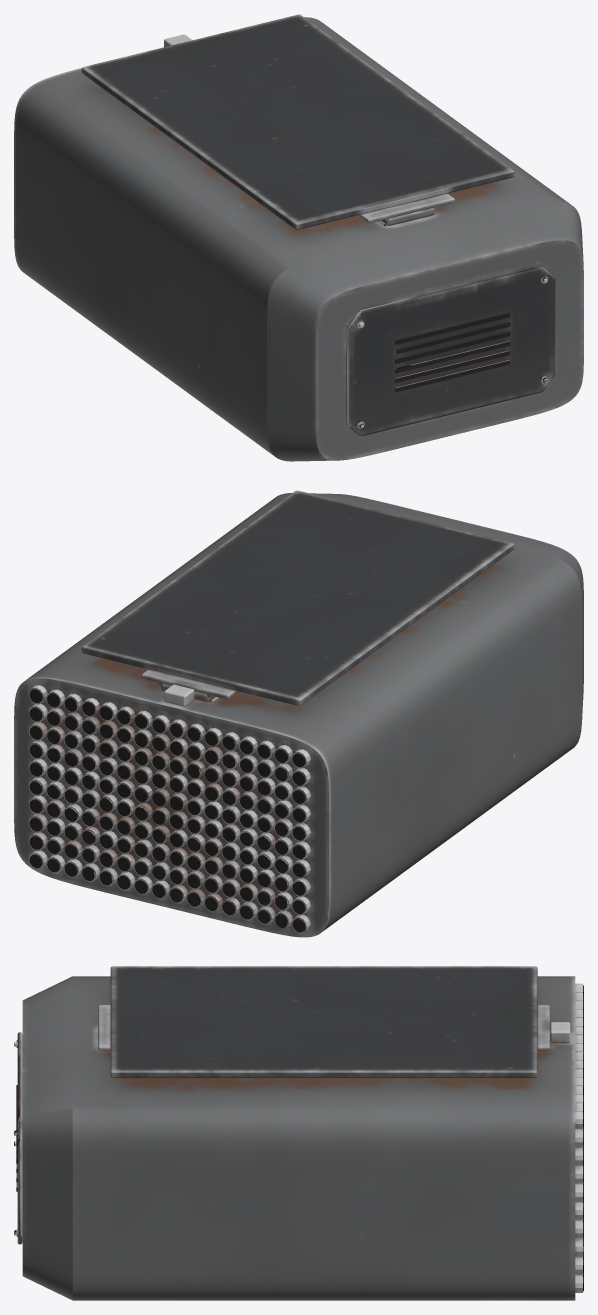
The model's file is SM_PartRocketPod.glb.
3 views of the same model, one above another, from view 1: azimuth 30°, elevation 25°; view 2: azimuth 150°, elevation 25°; view 3: azimuth 270°, elevation 25° (orthographic).
Parts seen in each view (by area): view 1: SM_PartRocketPod; view 2: SM_PartRocketPod; view 3: SM_PartRocketPod.
Boxes of the visible parts, box(x1,y1,x2,y2) form: SM_PartRocketPod: box(14, 14, 583, 461); SM_PartRocketPod: box(14, 490, 583, 937); SM_PartRocketPod: box(14, 966, 583, 1300).
Bounding box in the file's own units: 1.44 × 0.9649 × 2.27.
5 materials, 5 textured.
